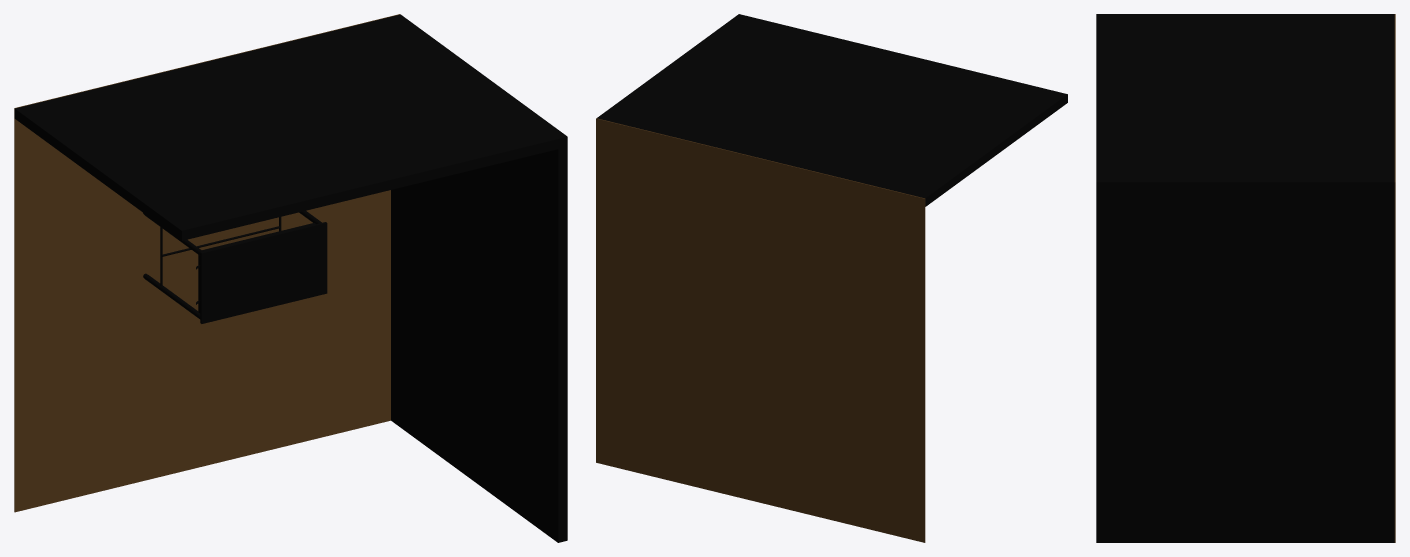
The model's file is Tatjana v1.fbx.
The picture shows the model from 3 angles, left to right: view 1: azimuth 30°, elevation 25°; view 2: azimuth 150°, elevation 25°; view 3: azimuth 270°, elevation 25°; orthographic projection. The views are drawn at different scales.
Visible parts, largest first — view 1: Body2, Body1 (×2); view 2: Body1, Body2; view 3: Body2, Body1.
Boxes of the visible parts, x1,y1,x2,y2 form: Body2: (14,14,567,542); Body1 (×2): (14,14,400,512); Body1: (596,118,925,542); Body2: (597,14,1067,206); Body2: (1096,14,1394,542); Body1: (1394,14,1395,542).
Bounding box in the file's own units: 4000 × 4000 × 3010.
